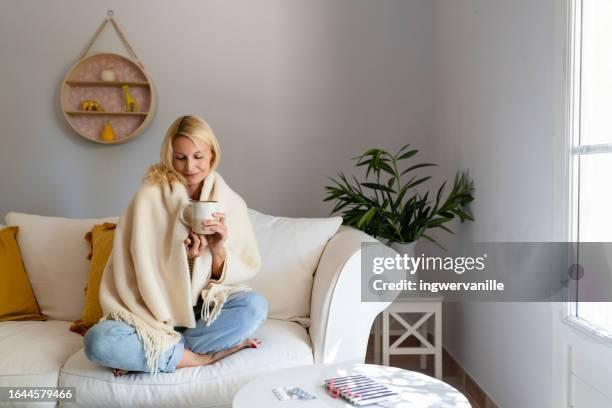blanket: (98, 167, 262, 377)
trousers: (82, 290, 270, 373)
